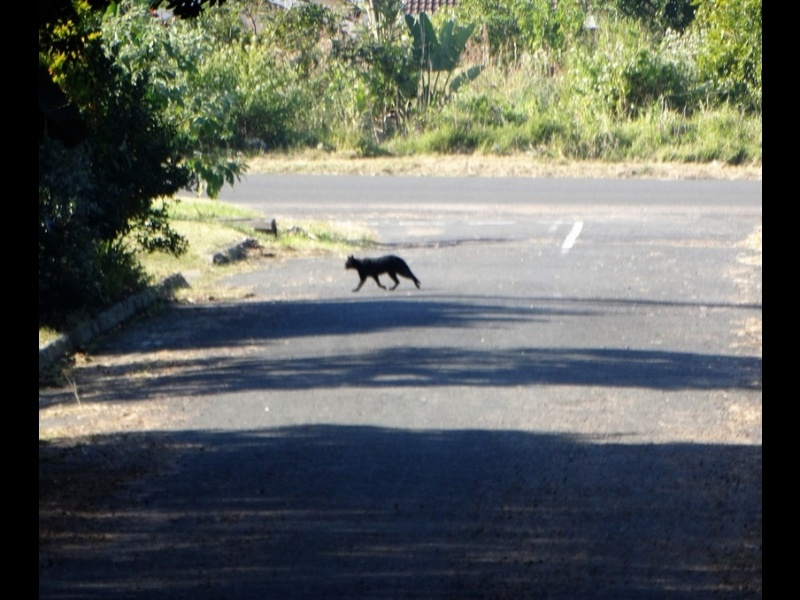cat: (340, 251, 421, 294)
